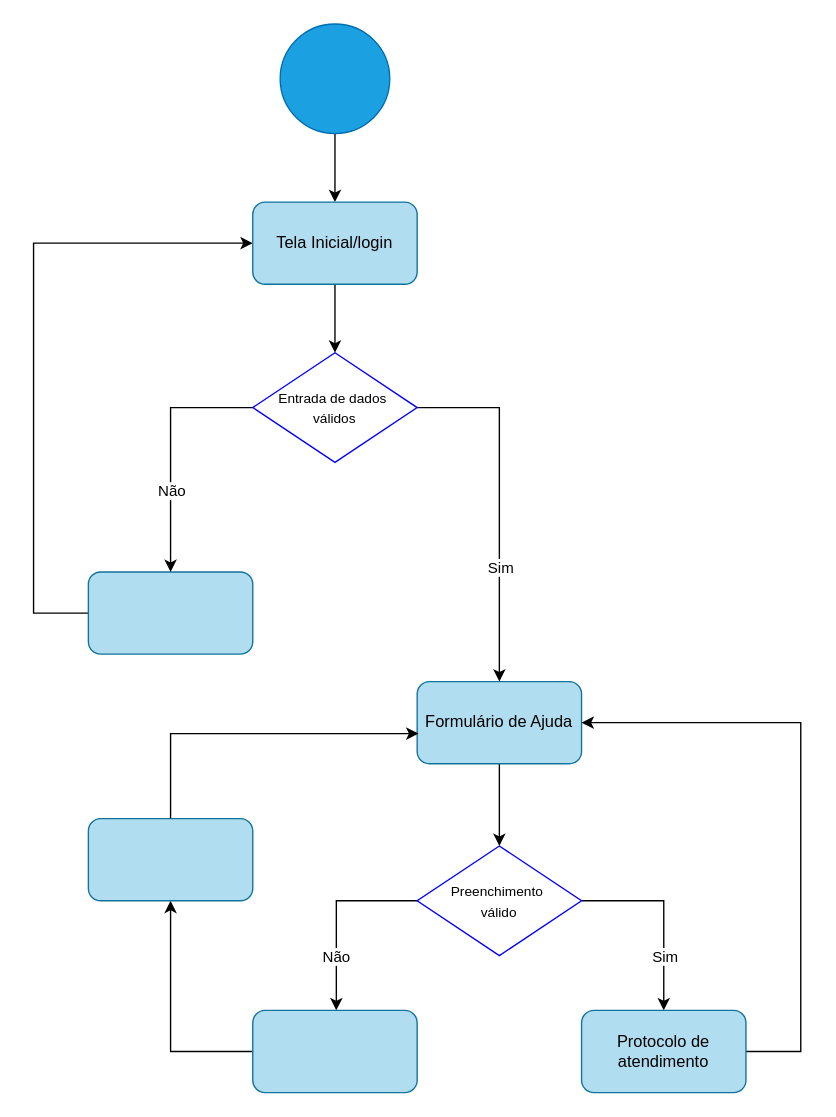
The diagram is 836 pixels wide and 1117 high, and some of its shapes have lost their labels. The centre of each missing label's shape, as x and y in pixels:
Campos incompletos: [334,1051]
Login inválido: [170,612]
Tela de erro: Informações insuficientes: [170,859]
